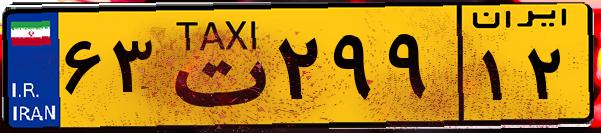1: (475, 38, 525, 113)
2: (270, 28, 330, 110), (525, 38, 570, 115)
3: (110, 28, 158, 98)
6: (57, 26, 110, 100)
9: (385, 28, 445, 110), (330, 28, 385, 110)
ت: (158, 12, 270, 120)
